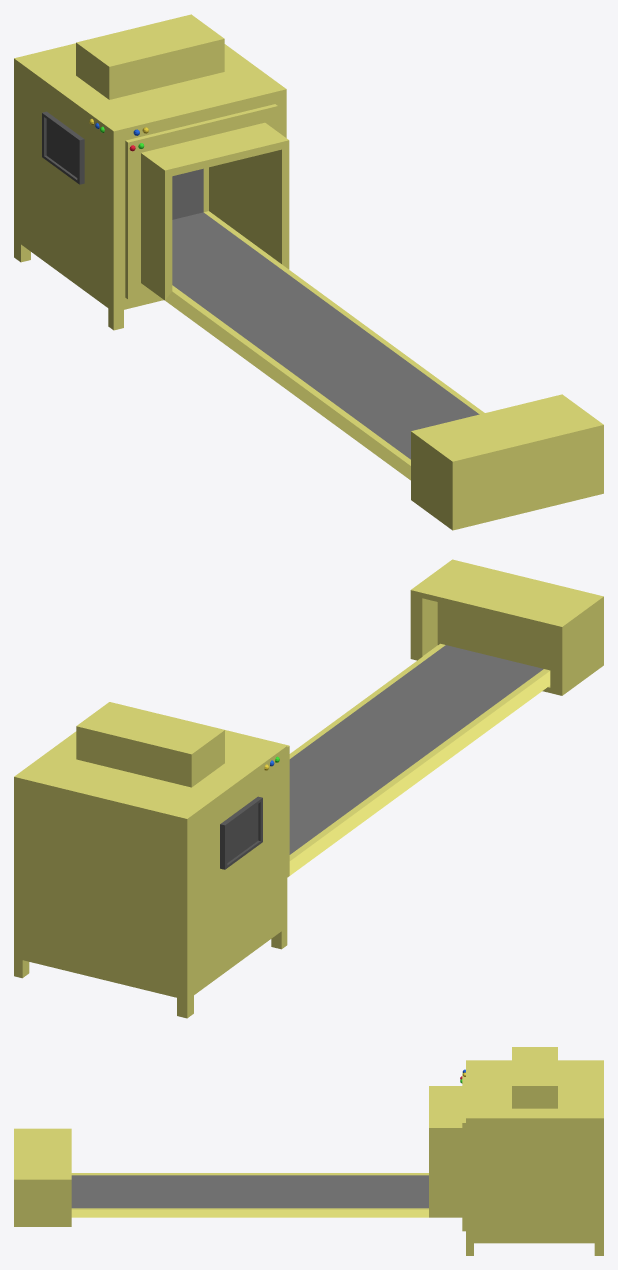
Rendered from xray2.fbx.
3 renders of one model, top to bottom at view 1: azimuth 30°, elevation 25°; view 2: azimuth 150°, elevation 25°; view 3: azimuth 270°, elevation 25°, orthographic. The views are drawn at different scales.
Parts seen in each view (by area): view 1: Cube, Cube.002, Cube.001; view 2: Cube, Cube.002, Cube.001; view 3: Cube, Cube.002.
Boxes of the visible parts, x1,y1,x2,y2 form: Cube: (14, 14, 484, 480); Cube.002: (411, 394, 603, 530); Cube.001: (42, 111, 84, 184); Cube: (14, 643, 550, 1018); Cube.002: (410, 559, 603, 695); Cube.001: (220, 796, 262, 869); Cube: (71, 1047, 603, 1255); Cube.002: (14, 1128, 71, 1226).
Bounding box in the file's own units: 1.44 × 1.8 × 6.
